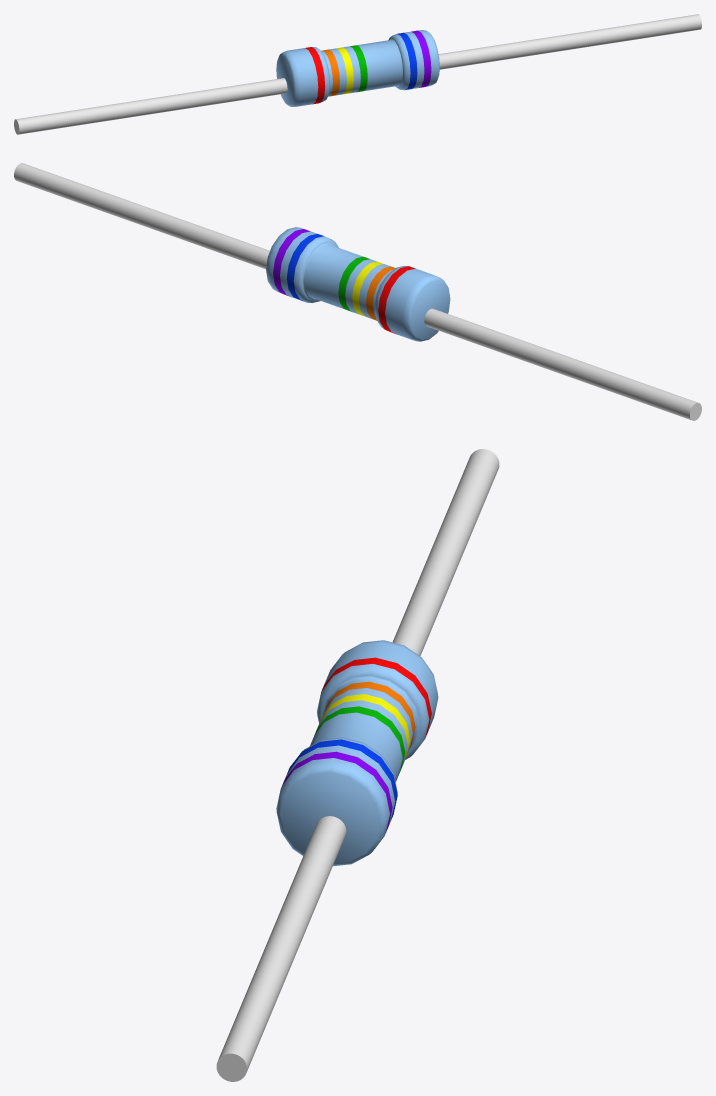
Rendered from resistor_675.glb.
3 renders of one model, top to bottom at view 1: azimuth 30°, elevation 25°; view 2: azimuth 150°, elevation 25°; view 3: azimuth 270°, elevation 25°, orthographic. The views are drawn at different scales.
Parts seen in each view (by area): view 1: legs, resistor-675; view 2: resistor-675, legs; view 3: resistor-675, legs.
Boxes of the visible parts, x1,y1,x2,y2 form: legs: (14, 14, 701, 134); resistor-675: (276, 30, 439, 106); resistor-675: (266, 227, 450, 341); legs: (14, 163, 701, 420); resistor-675: (276, 640, 438, 866); legs: (216, 449, 499, 1081).
Size of the model in its own units: 0.0277 by 0.0022 by 0.00545.
